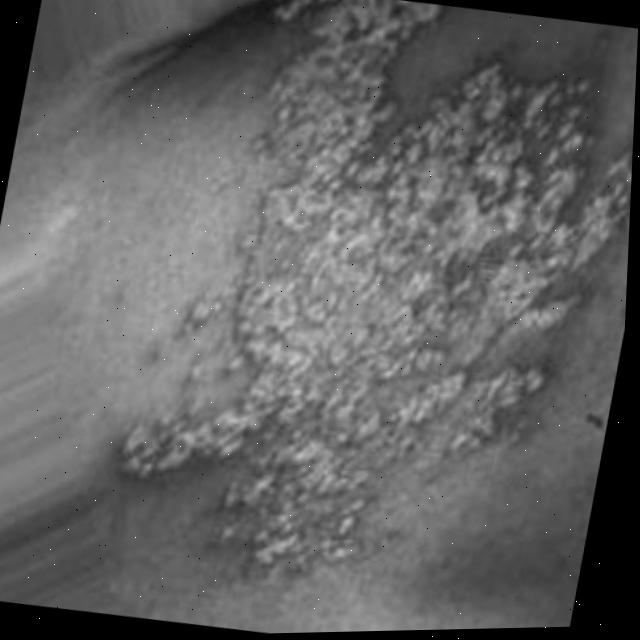Shingles: (95, 0, 640, 619)
